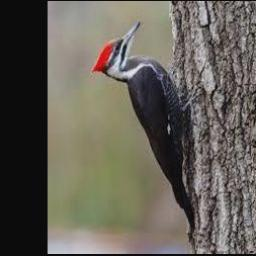Woodpecker: (91, 20, 199, 240)
